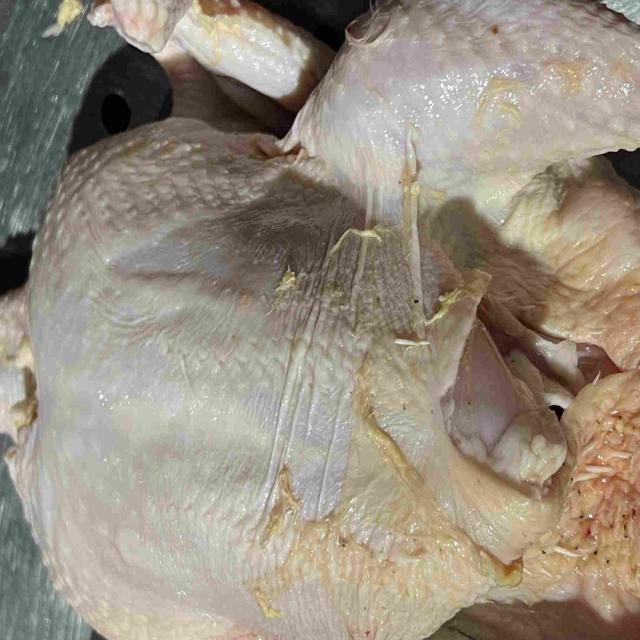breast: (10, 129, 572, 640)
leg: (278, 0, 640, 239)
wing: (91, 0, 324, 137)
